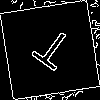T: (25, 25, 77, 80)
